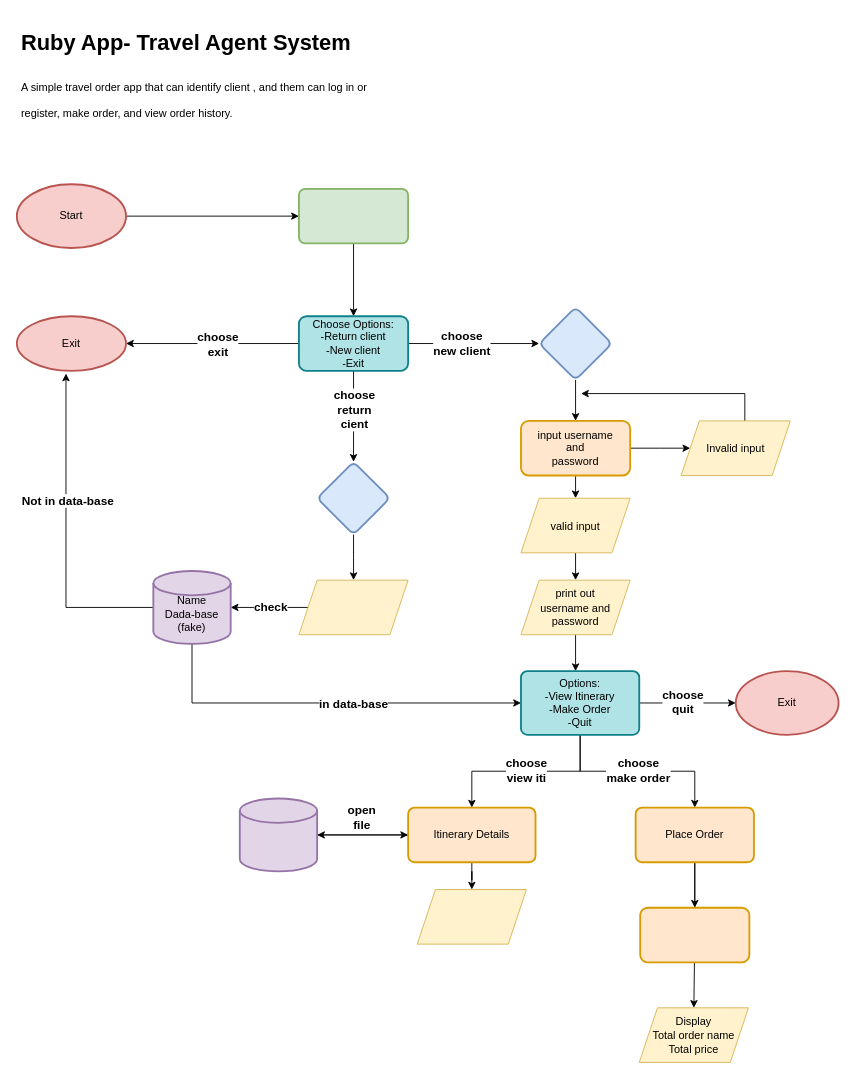
Some shapes in this 854 by 1078 pixel diagram are drawn without their labels. Each missing label, with the box of its shape:
Ask name and password input: (298, 579, 408, 635)
Display Itinerary Details: (416, 889, 526, 944)
input itinerary name and quantity: (639, 906, 750, 963)
itinerary Dada-base (fake): (238, 797, 318, 872)
new client?: (538, 306, 612, 380)
Print Welcome: (298, 187, 409, 244)
return client?: (316, 460, 390, 535)
